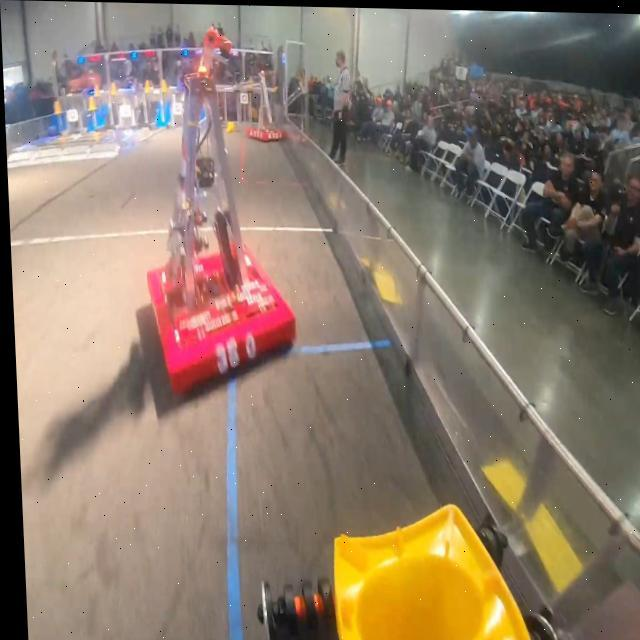robot: (147, 24, 296, 398), (246, 70, 286, 143)
